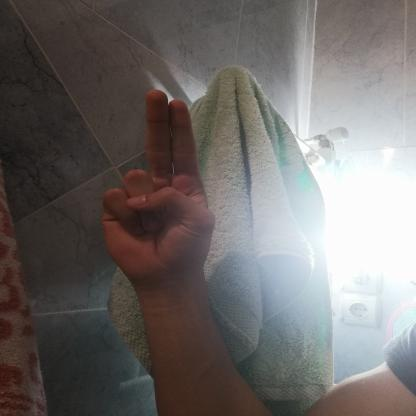TA: (88, 81, 230, 290)
